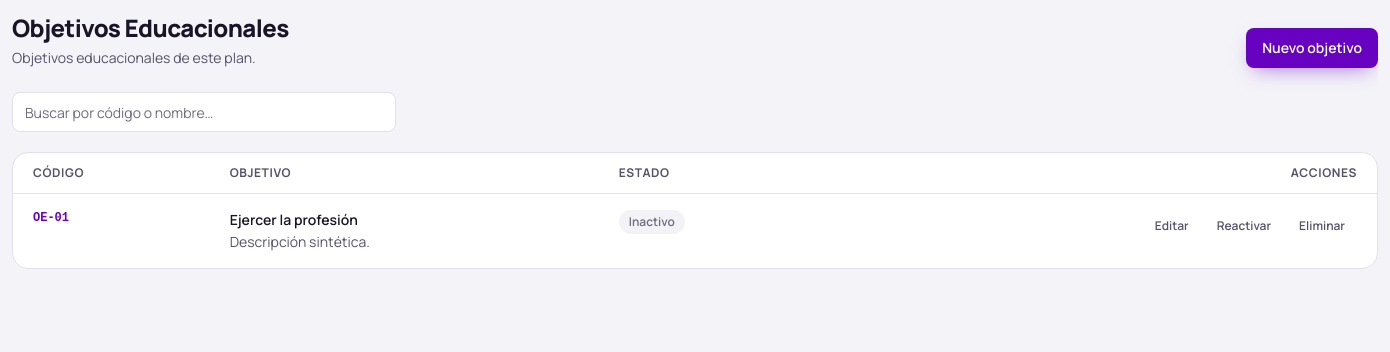
Test: ObjetivosPage — Inactivar y Reactivar (RF-CH-023) › si el servidor rechaza la reactivación, muestra su motivo
The image size is (1390, 352).
Click the button "Reactivar".
click(1244, 226)  # box [1205, 210, 1283, 242]
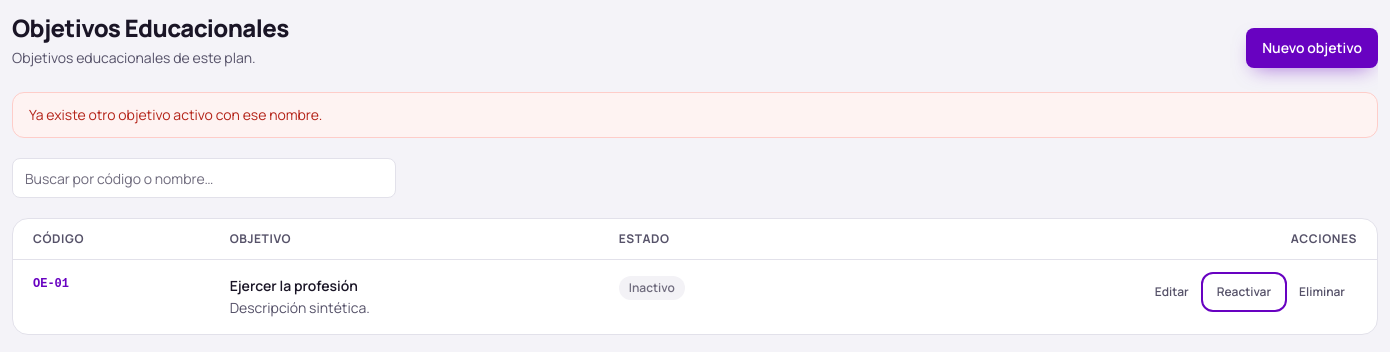
Expected: the text "Ya existe otro objetivo activo con ese nombre." is shown, [12, 92, 1378, 138]
